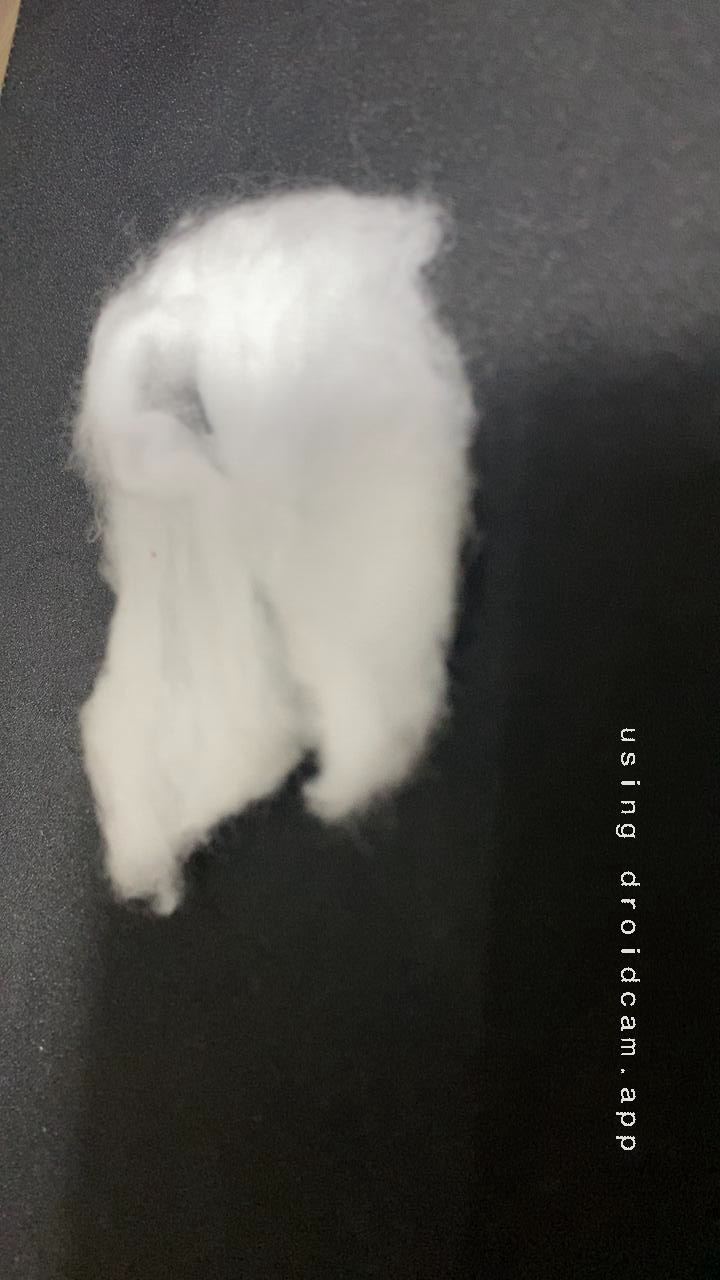cotton: (0, 143, 568, 895)
